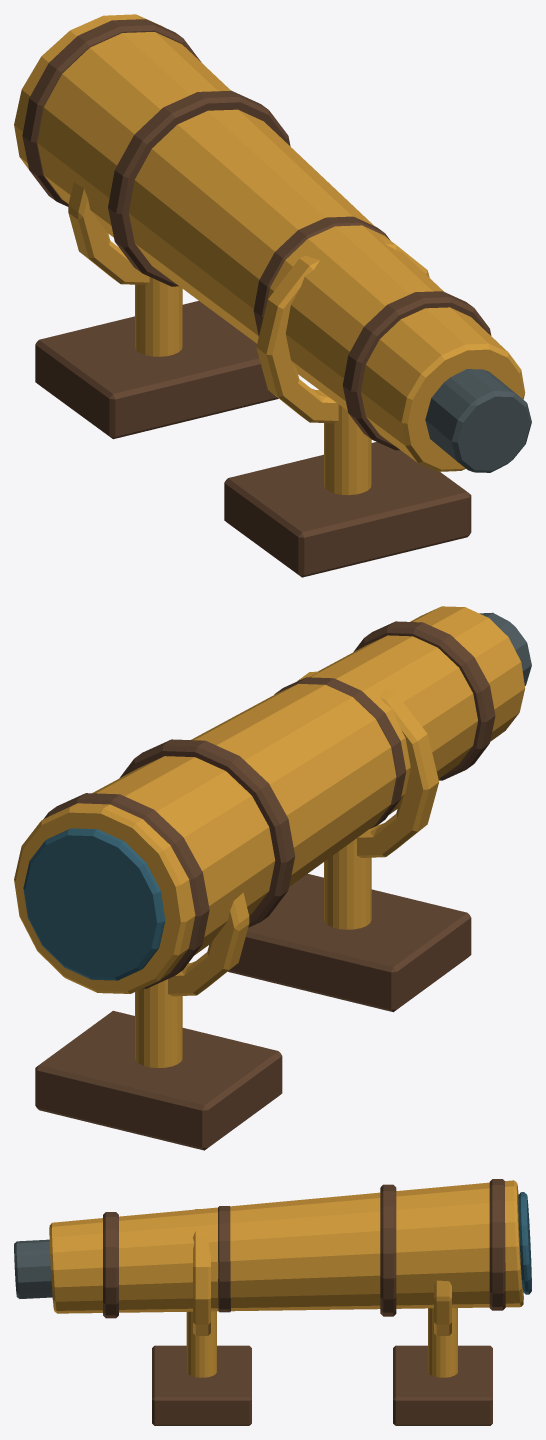
The model's file is brass_telescope.glb.
3 renders of one model, top to bottom at view 1: azimuth 30°, elevation 25°; view 2: azimuth 150°, elevation 25°; view 3: azimuth 270°, elevation 25°, orthographic. The views are drawn at different scales.
Parts seen in each view (by area): view 1: brass_telescope__body__brass, brass_telescope__body__wood_dark, brass_telescope__body__metal; view 2: brass_telescope__body__brass, brass_telescope__body__wood_dark, brass_telescope__body__glass, brass_telescope__body__metal; view 3: brass_telescope__body__brass, brass_telescope__body__wood_dark, brass_telescope__body__metal, brass_telescope__body__glass.
Boxes of the visible parts, x1,y1,x2,y2 form: brass_telescope__body__brass: (14, 14, 525, 495); brass_telescope__body__wood_dark: (22, 19, 491, 577); brass_telescope__body__metal: (425, 369, 531, 472); brass_telescope__body__brass: (14, 606, 525, 1067); brass_telescope__body__wood_dark: (35, 621, 495, 1150); brass_telescope__body__glass: (23, 828, 165, 980); brass_telescope__body__metal: (479, 612, 531, 685); brass_telescope__body__brass: (49, 1180, 523, 1377); brass_telescope__body__wood_dark: (103, 1179, 505, 1425); brass_telescope__body__metal: (14, 1239, 52, 1298); brass_telescope__body__glass: (518, 1192, 531, 1294).
Bounding box in the file's own units: 0.29 × 0.5218 × 1.14.
